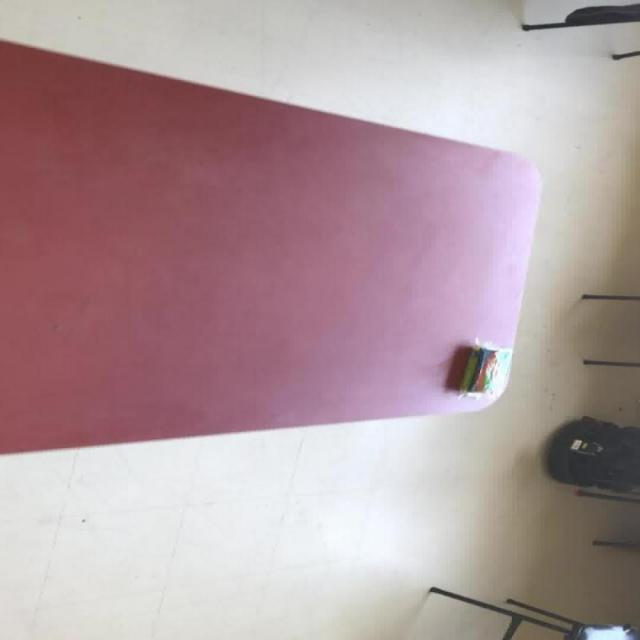Sponge: (456, 338, 512, 400)
